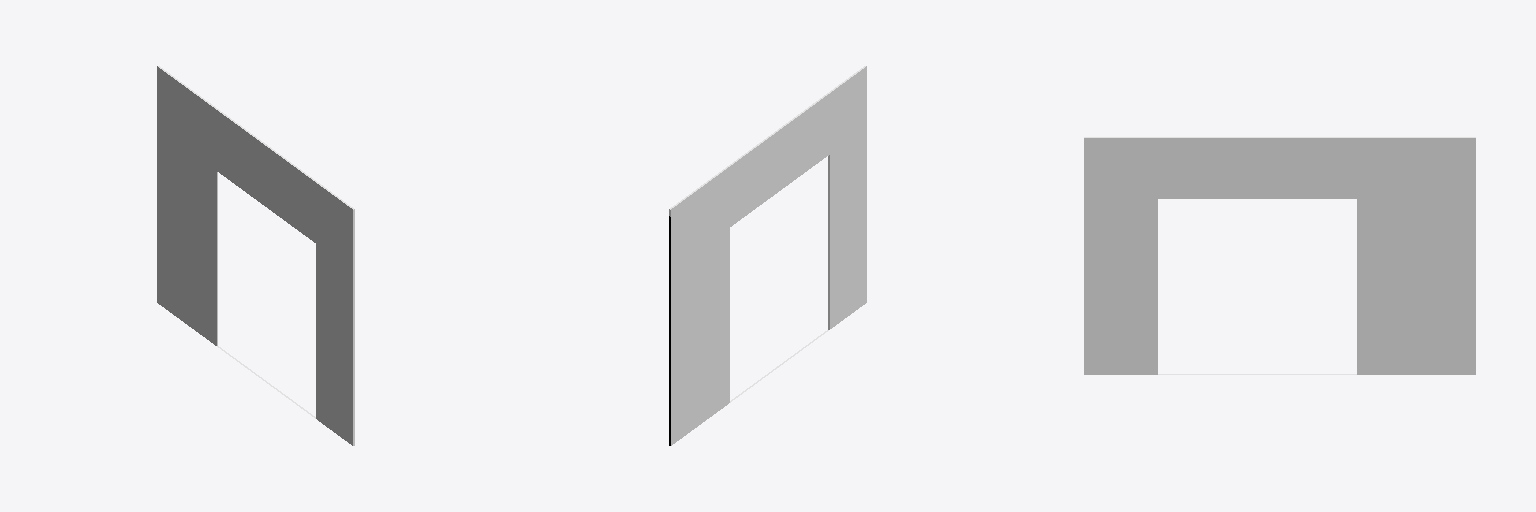
File: Wall_door_ glass_ Double.obj
3 renders of one model, left to right at view 1: azimuth 30°, elevation 25°; view 2: azimuth 150°, elevation 25°; view 3: azimuth 270°, elevation 25°, orthographic.
Visible parts, largest first — view 1: Wall_door_ glass_ Double; view 2: Wall_door_ glass_ Double; view 3: Wall_door_ glass_ Double.
Boxes of the visible parts, box(x1,y1,x2,y2) form: Wall_door_ glass_ Double: box(157, 66, 354, 445); Wall_door_ glass_ Double: box(669, 66, 866, 445); Wall_door_ glass_ Double: box(1084, 137, 1475, 374).
Size of the model in its own units: 0.0239 by 3 by 4.5.